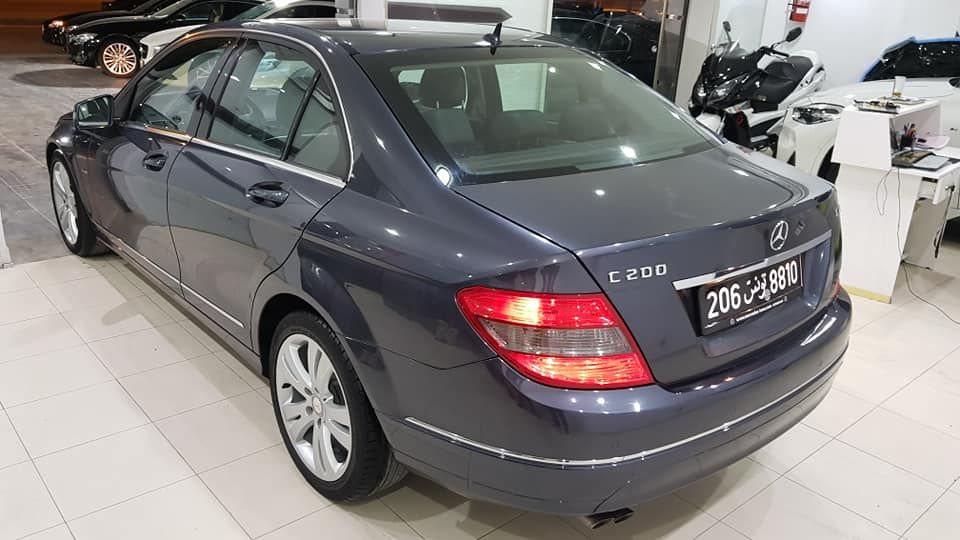LP: (698, 254, 805, 326)
